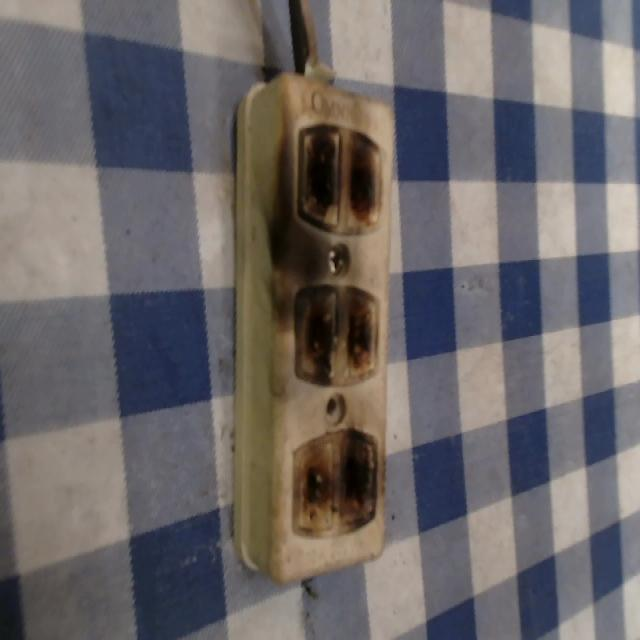-: (295, 118, 387, 238), (289, 424, 376, 536), (291, 278, 381, 386)
